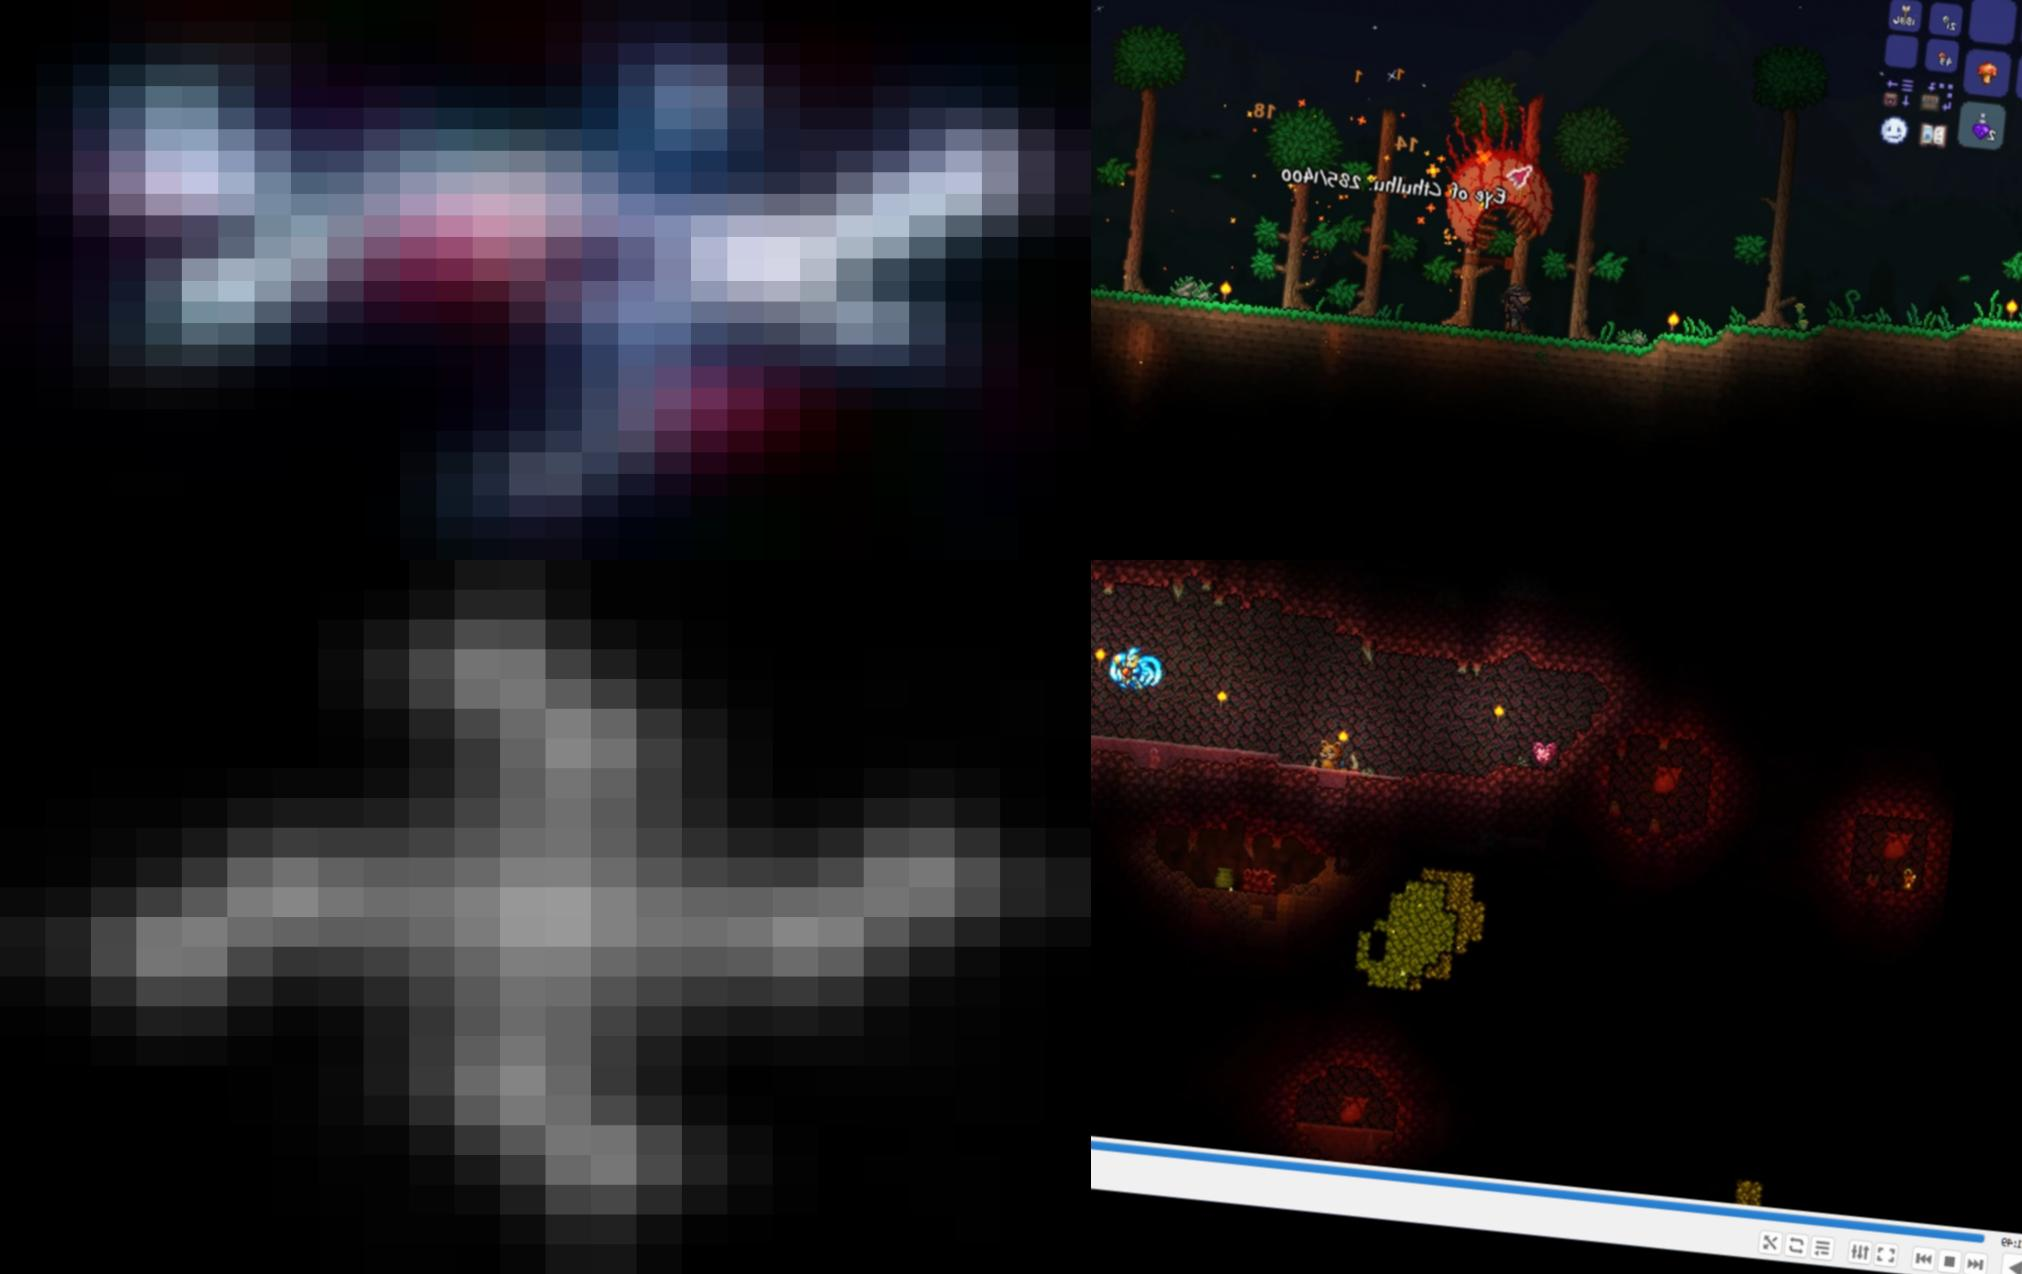eyeC: (1422, 91, 1567, 264)
helmet: (0, 0, 1092, 561)
shuriken: (0, 561, 1092, 1274)
